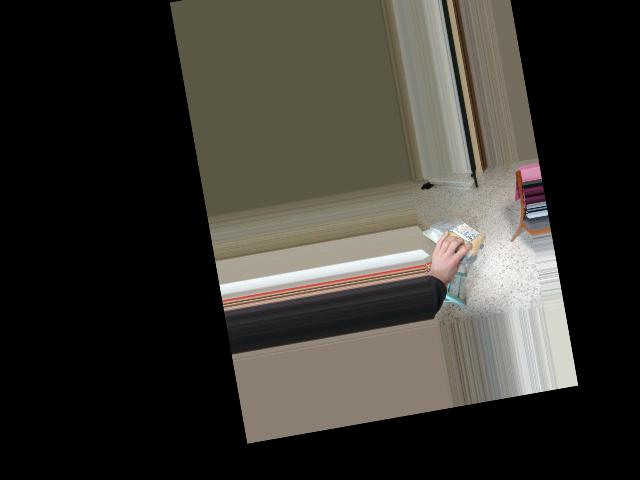cheese: (420, 217, 485, 260)
